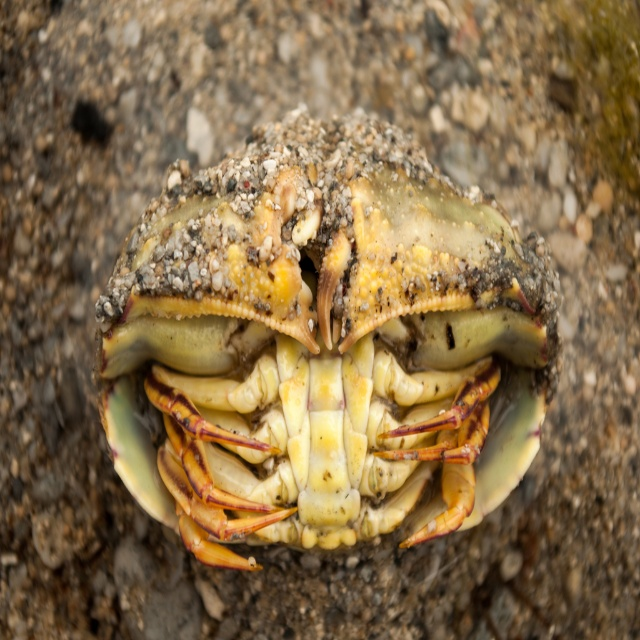Crab: (97, 122, 556, 580)
